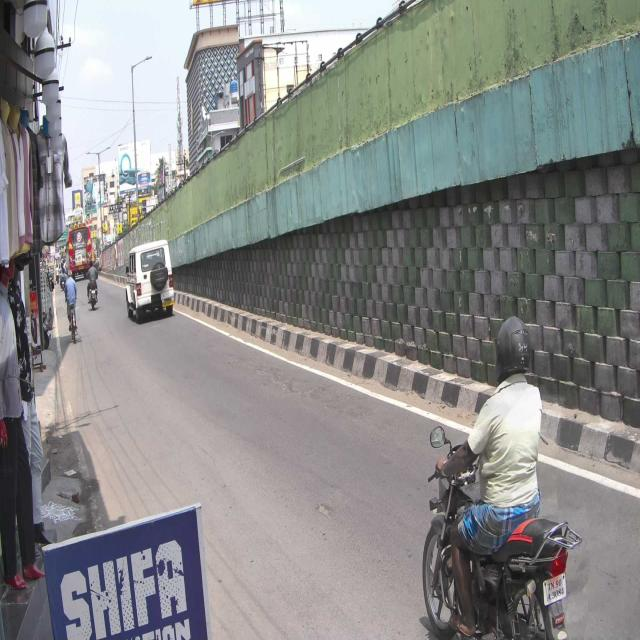single_rider: (421, 314, 578, 640)
